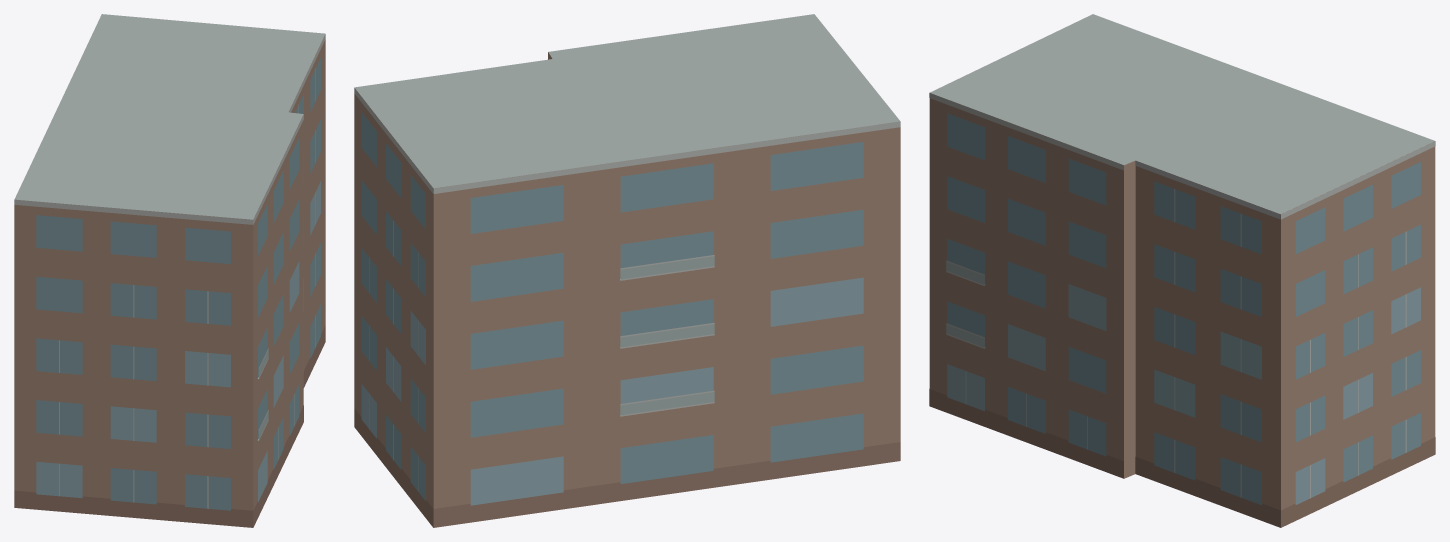
The model's file is survey-upis-32872022.glb.
3 views of the same model, side by side, from view 1: azimuth 30°, elevation 25°; view 2: azimuth 150°, elevation 25°; view 3: azimuth 270°, elevation 25° (orthographic). The views are drawn at different scales.
Parts seen in each view (by area): view 1: survey-upis-32872022.tmp; view 2: survey-upis-32872022.tmp; view 3: survey-upis-32872022.tmp.
Part boxes in pixels (left/top/right/bottom): survey-upis-32872022.tmp: left=14, top=14, right=325, bottom=527; survey-upis-32872022.tmp: left=354, top=14, right=900, bottom=527; survey-upis-32872022.tmp: left=929, top=14, right=1435, bottom=527.
Bounding box in the file's own units: 19.88 × 14.5 × 21.21.
